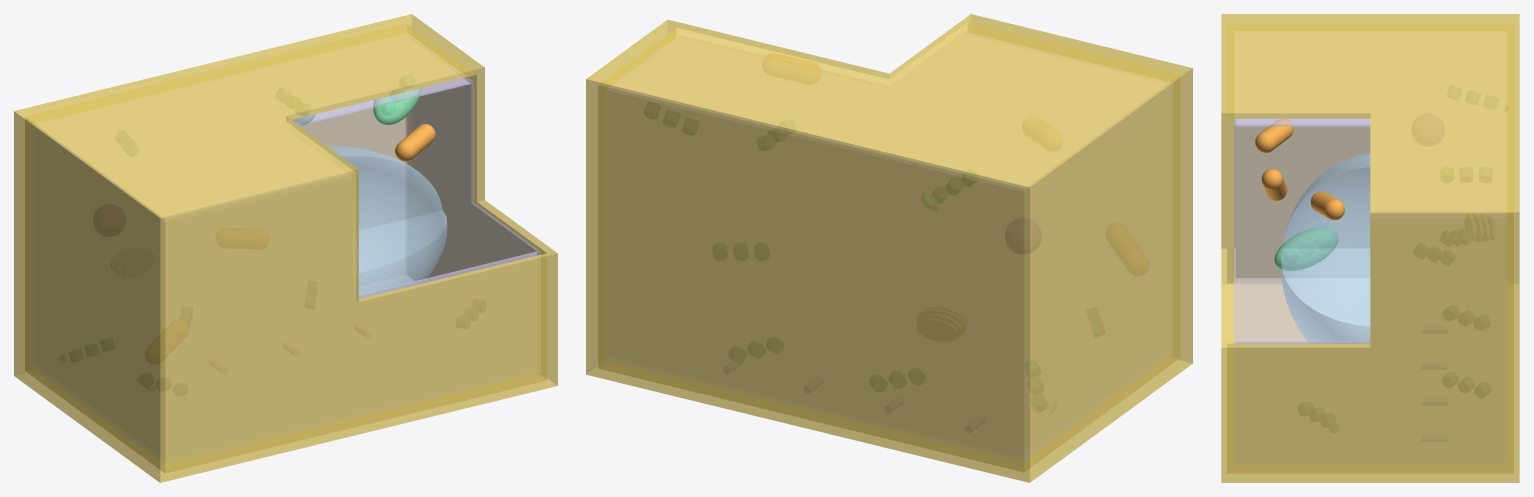
Rendered from plant-cell.glb.
3 renders of one model, left to right at view 1: azimuth 30°, elevation 25°; view 2: azimuth 150°, elevation 25°; view 3: azimuth 270°, elevation 25°, orthographic. The views are drawn at different scales.
Parts seen in each view (by area): view 1: cell-wall, cell-membrane, vacuole, chloroplasts, mitochondria; view 2: cell-wall; view 3: cell-wall, cell-membrane, vacuole, mitochondria, chloroplasts.
Boxes of the visible parts, x1,y1,x2,y2 form: cell-wall: [14, 14, 557, 482]; cell-membrane: [291, 77, 540, 298]; vacuole: [328, 146, 447, 298]; chloroplasts: [292, 88, 421, 125]; mitochondria: [395, 124, 435, 161]; cell-wall: [586, 14, 1192, 482]; cell-wall: [1221, 14, 1519, 482]; cell-membrane: [1234, 118, 1370, 343]; vacuole: [1281, 154, 1370, 343]; mitochondria: [1255, 119, 1344, 219]; chloroplasts: [1274, 100, 1508, 270].
Bounding box in the file's own units: 22 × 14.17 × 14.
